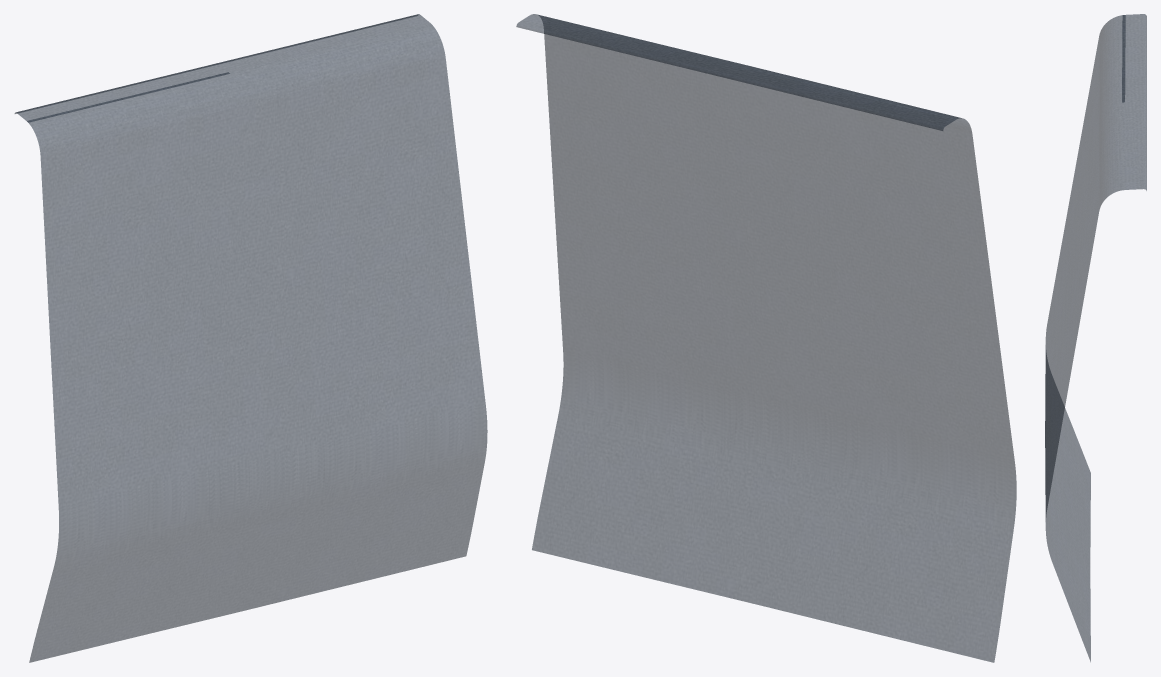
The model's file is original-35.obj.
3 renders of one model, left to right at view 1: azimuth 30°, elevation 25°; view 2: azimuth 150°, elevation 25°; view 3: azimuth 270°, elevation 25°, orthographic. The views are drawn at different scales.
Visible parts, largest first — view 1: Group20/mesh74/mesh74-geometry#mesh74-geometry; view 2: Group20/mesh74/mesh74-geometry#mesh74-geometry; view 3: Group20/mesh74/mesh74-geometry#mesh74-geometry.
Boxes of the visible parts, x1,y1,x2,y2 form: Group20/mesh74/mesh74-geometry#mesh74-geometry: (14, 14, 487, 662); Group20/mesh74/mesh74-geometry#mesh74-geometry: (516, 14, 1016, 662); Group20/mesh74/mesh74-geometry#mesh74-geometry: (1045, 14, 1146, 661).
Bounding box in the file's own units: 0.7726 × 0.8855 × 0.1752.
Materials: 1 (1 with a texture image).
